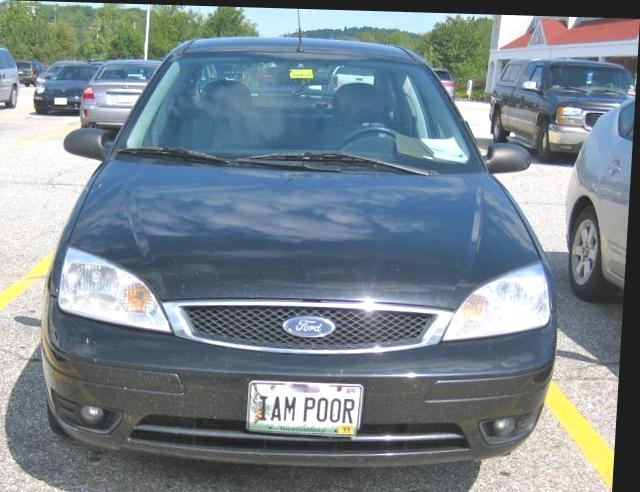License_Plate: (239, 373, 371, 449)
